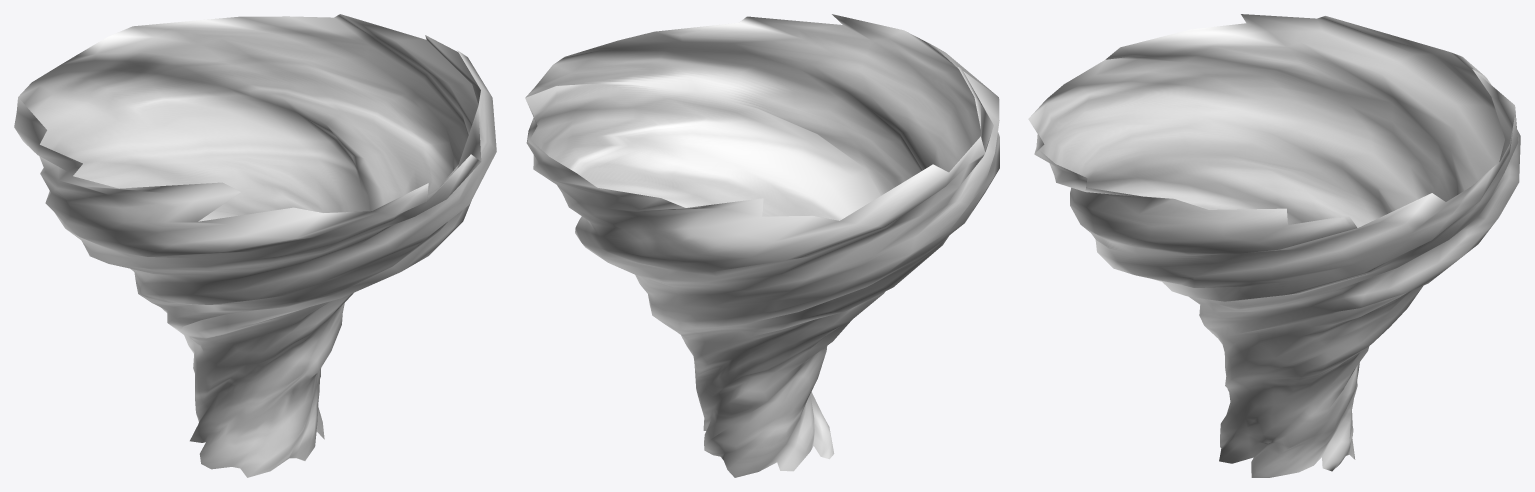
Rendered from Tornado_1.fbx.
3 views of the same model, side by side, from view 1: azimuth 30°, elevation 25°; view 2: azimuth 150°, elevation 25°; view 3: azimuth 270°, elevation 25° (orthographic).
Parts seen in each view (by area): view 1: SM_ky_tornado3; view 2: SM_ky_tornado3; view 3: SM_ky_tornado3.
Boxes of the visible parts, x1=… form: SM_ky_tornado3: x1=14, y1=14, x2=496, y2=477; SM_ky_tornado3: x1=525, y1=14, x2=999, y2=477; SM_ky_tornado3: x1=1028, y1=14, x2=1520, y2=477.
Size of the model in its own units: 0.4258 by 0.3472 by 0.4336.
1 material, 1 textured.
